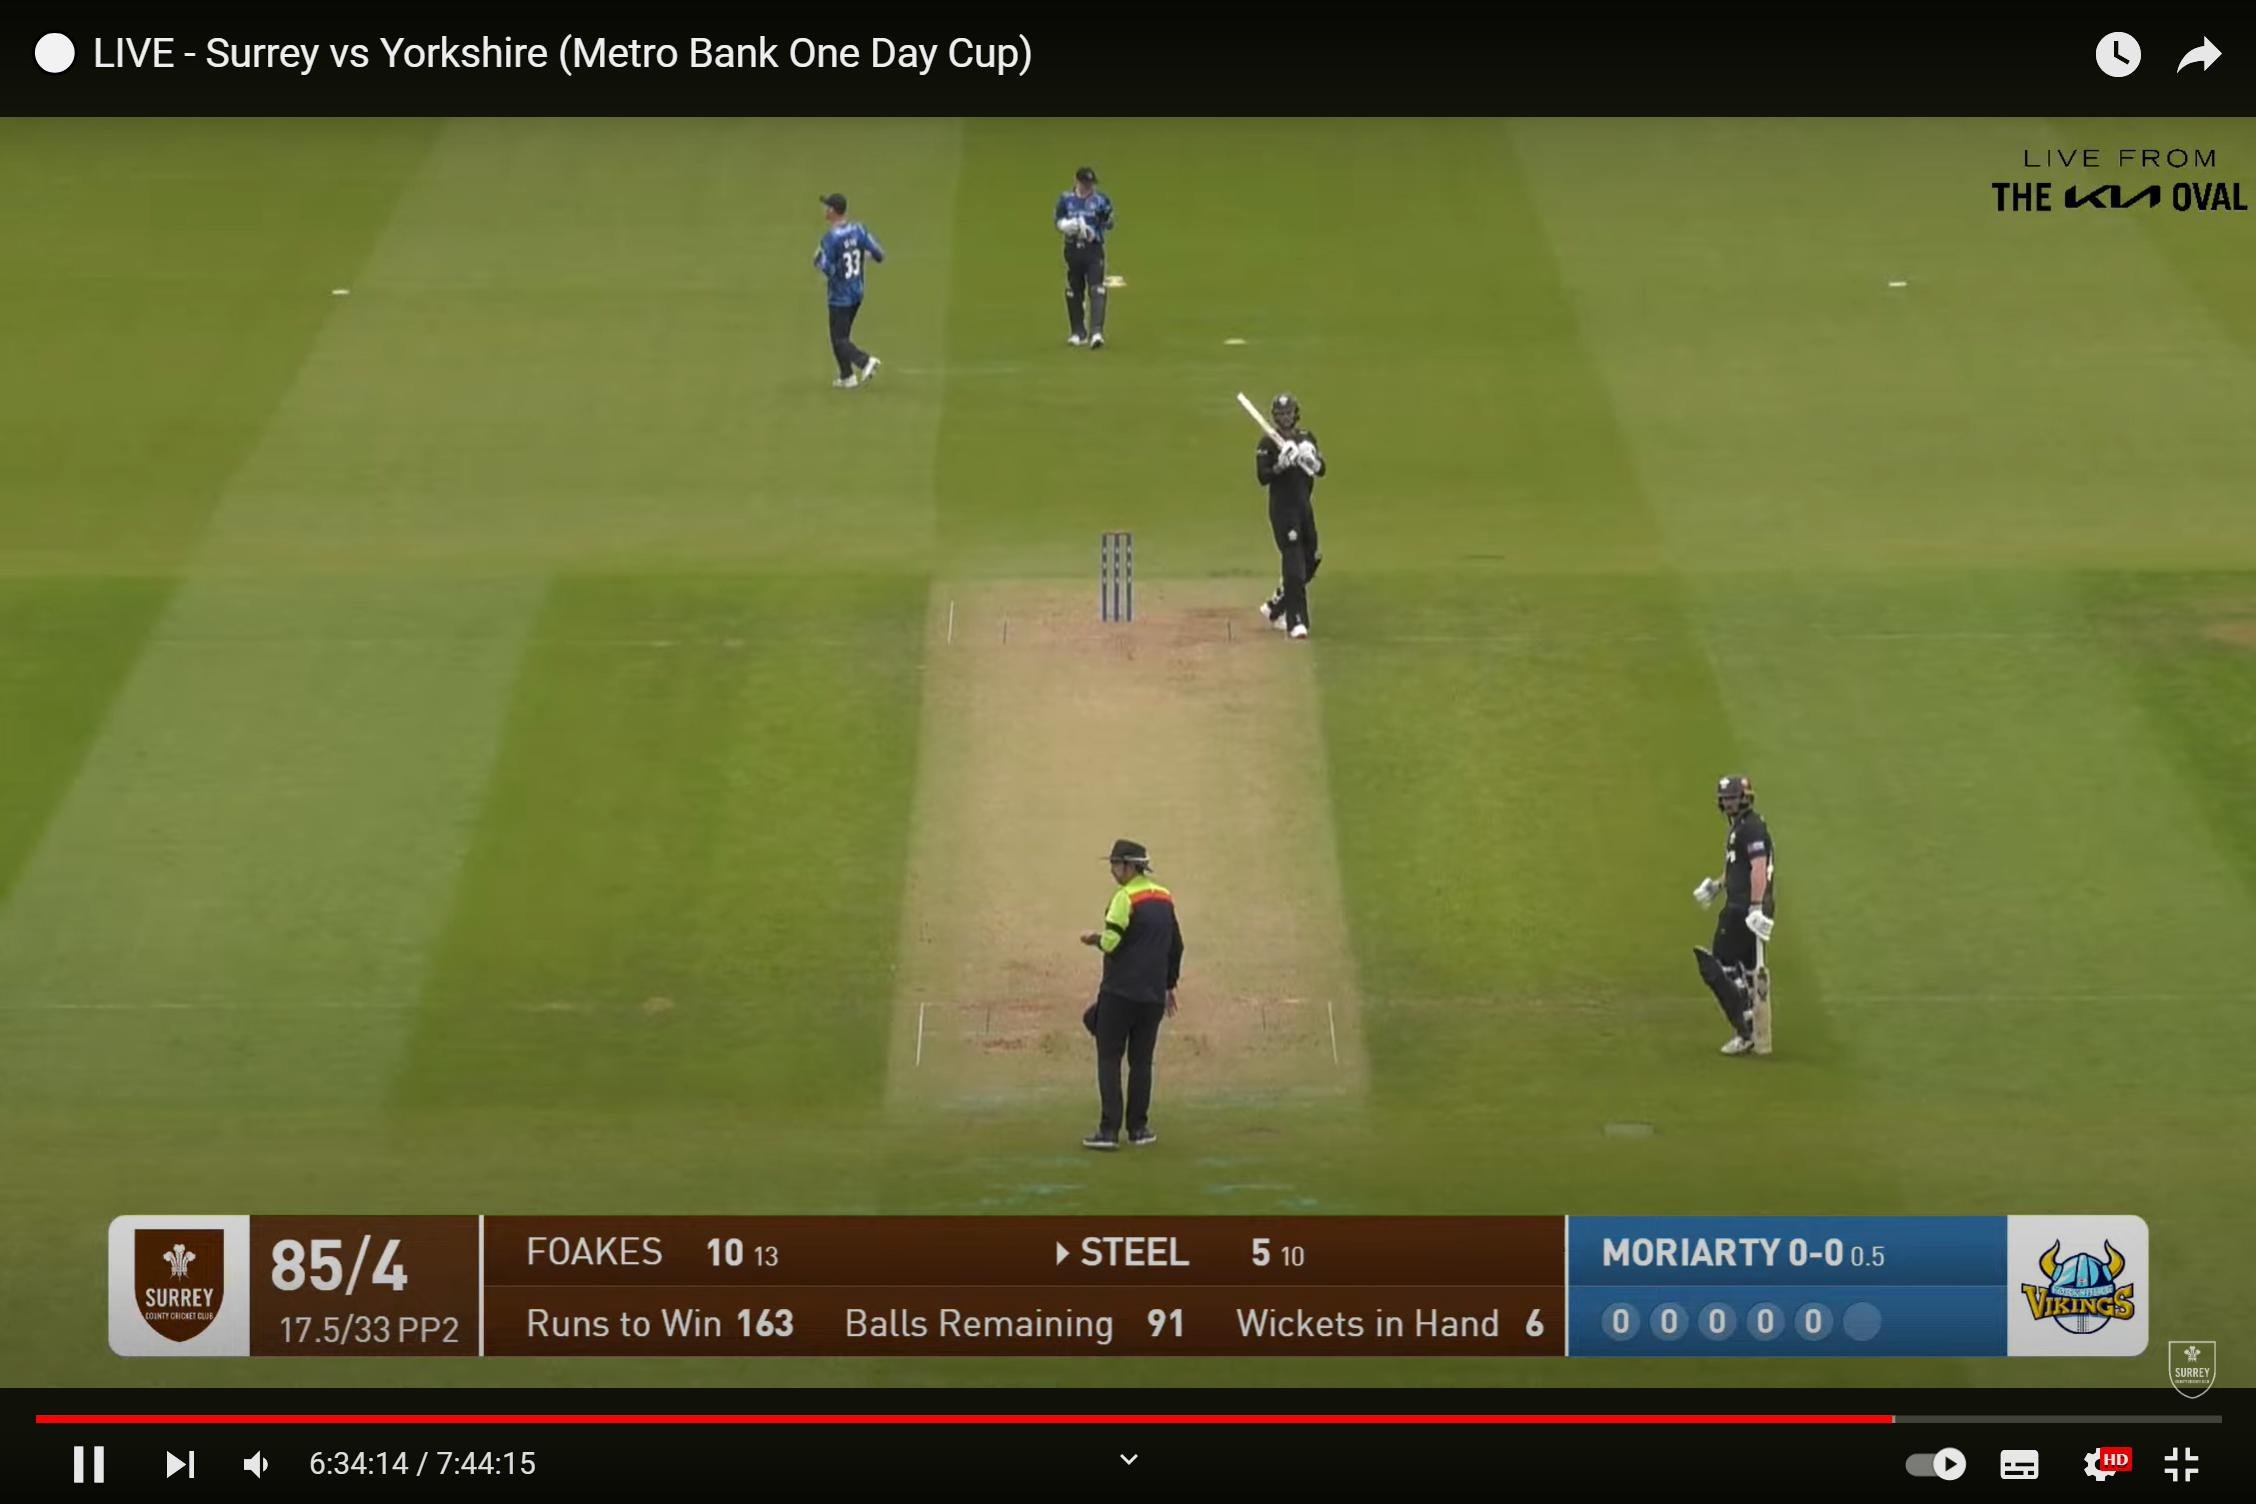batsman: (1192, 373, 1366, 650)
non striker: (1685, 735, 1793, 1068)
stumps: (1057, 509, 1163, 648)
umpire: (1047, 831, 1225, 1163)
wicket keeper: (1016, 158, 1150, 363)
